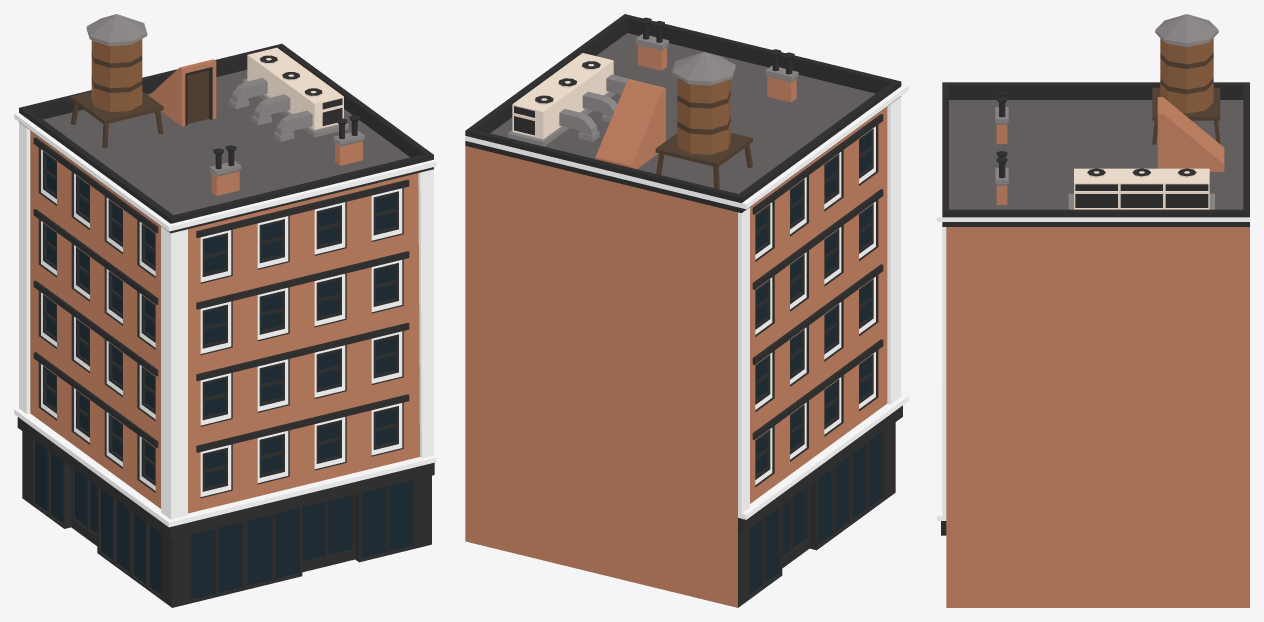
Rendered from building-block-4floor-corner.glb.
3 views of the same model, side by side, from view 1: azimuth 30°, elevation 25°; view 2: azimuth 150°, elevation 25°; view 3: azimuth 270°, elevation 25° (orthographic). The views are drawn at different scales.
Parts seen in each view (by area): view 1: building-block-4floor-corner; view 2: building-block-4floor-corner; view 3: building-block-4floor-corner.
Part boxes in pixels (box(x1,y1,x2,y2)): building-block-4floor-corner: box(14, 14, 436, 607); building-block-4floor-corner: box(465, 14, 908, 607); building-block-4floor-corner: box(937, 14, 1249, 607).
Bounding box in the file's own units: 11.75 × 20.61 × 11.75.
Materials: 1 (1 with a texture image).
